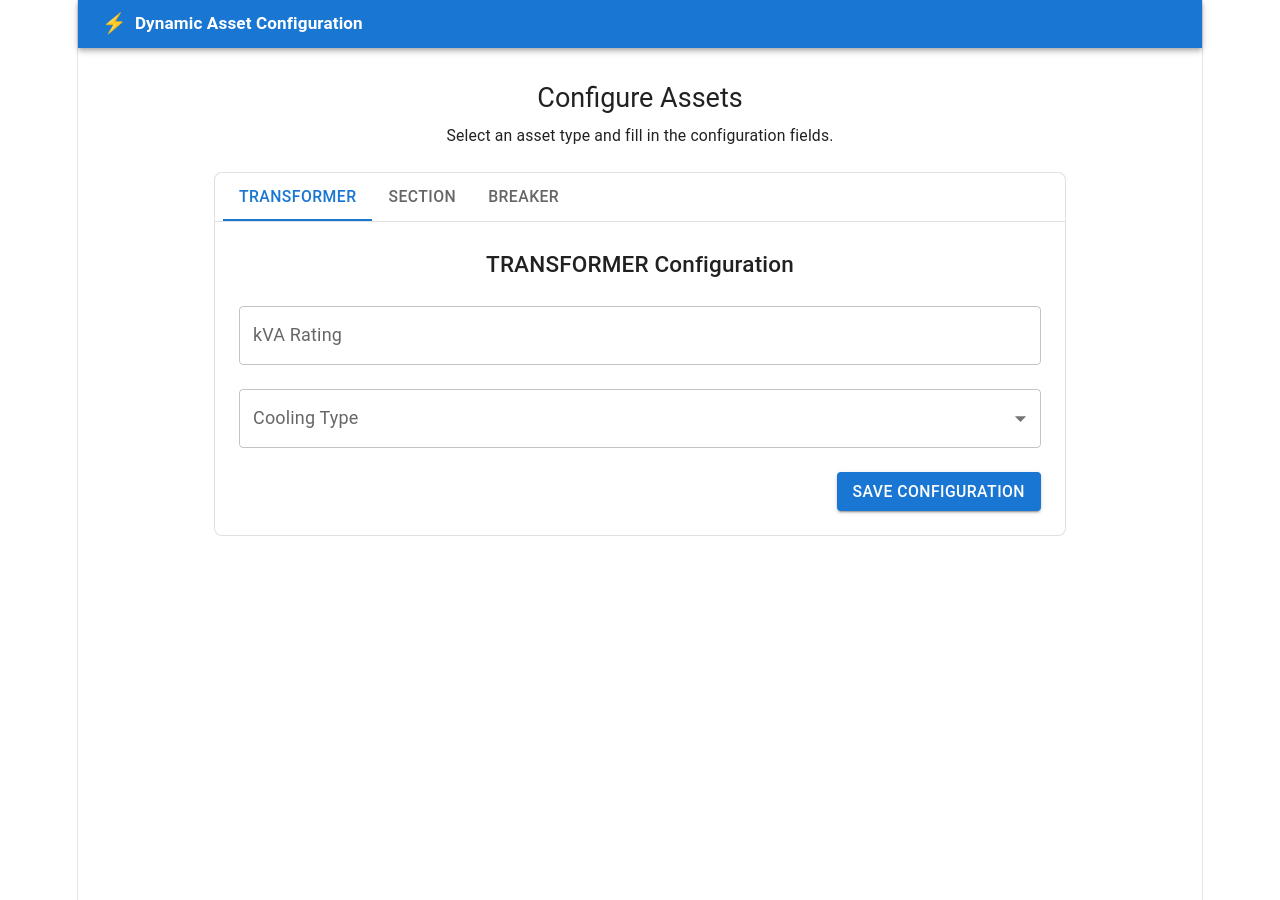
Test: App › displays the payload section after a valid TRANSFORMER submission
Type "250" into the field labelled "kVA Rating" at (640,335), box [239,306,1041,365]
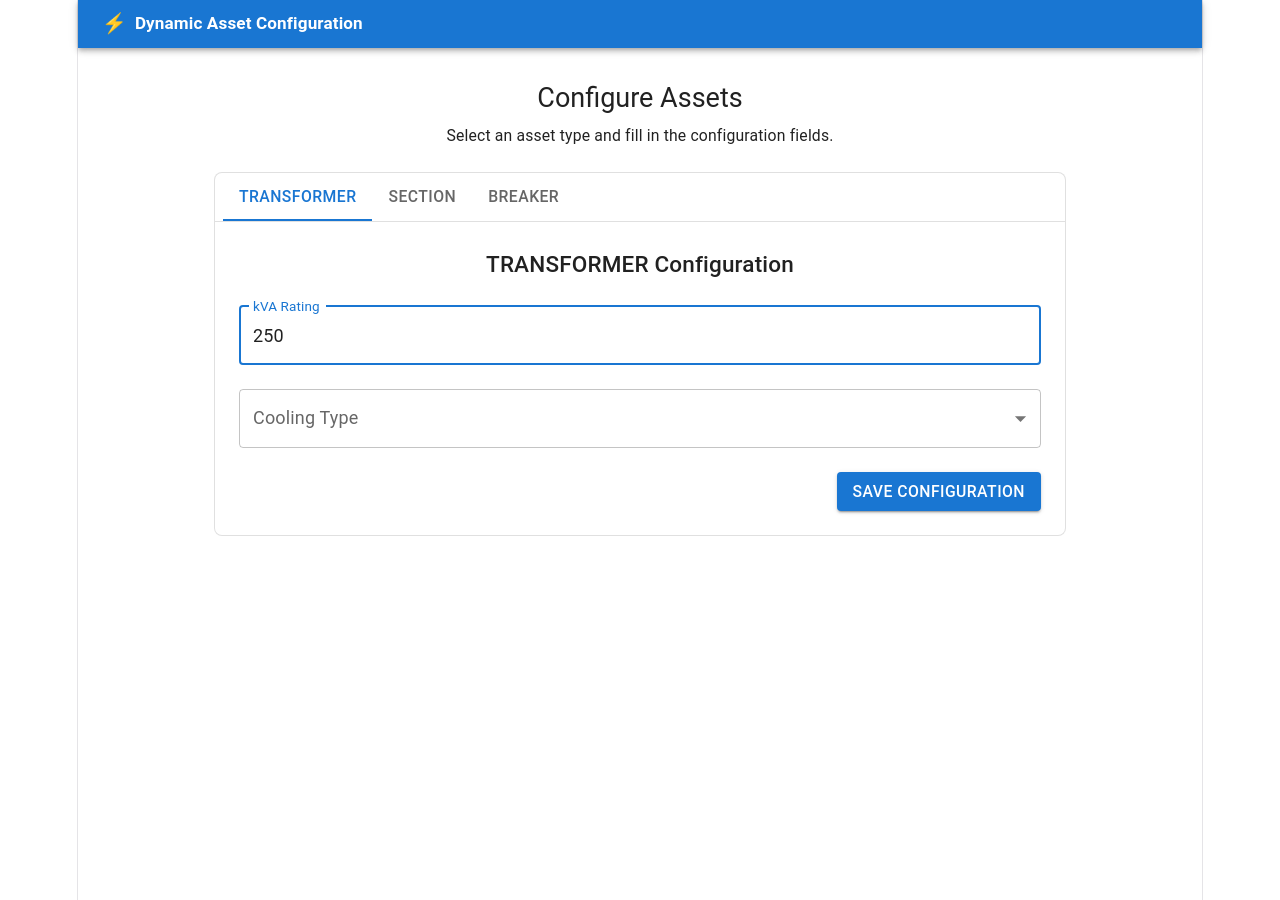
Click the dropdown named "cooling type" at (640,418), box [239,389,1041,448]
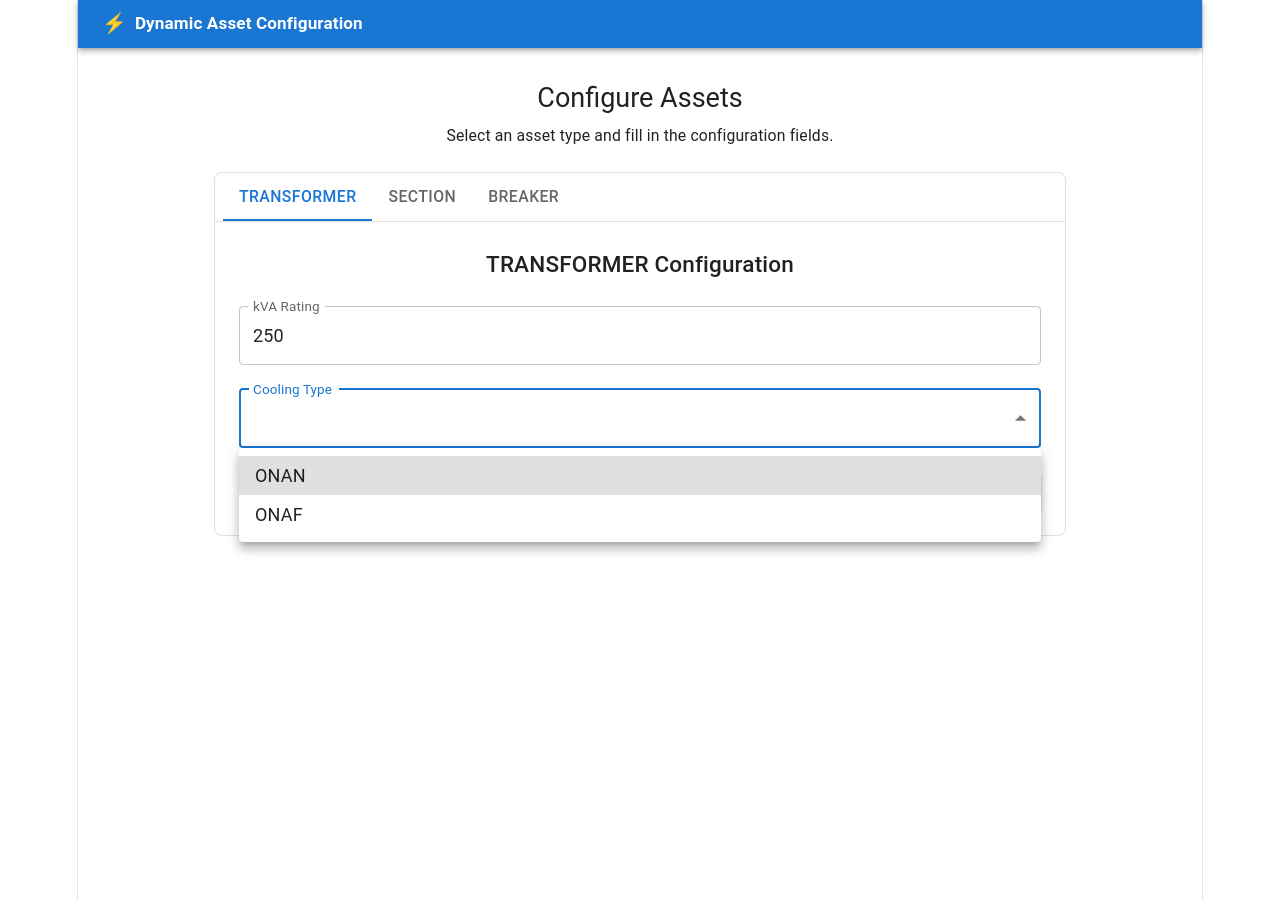
Click the option "ONAF" at (279,514), box [255,504,303,525]
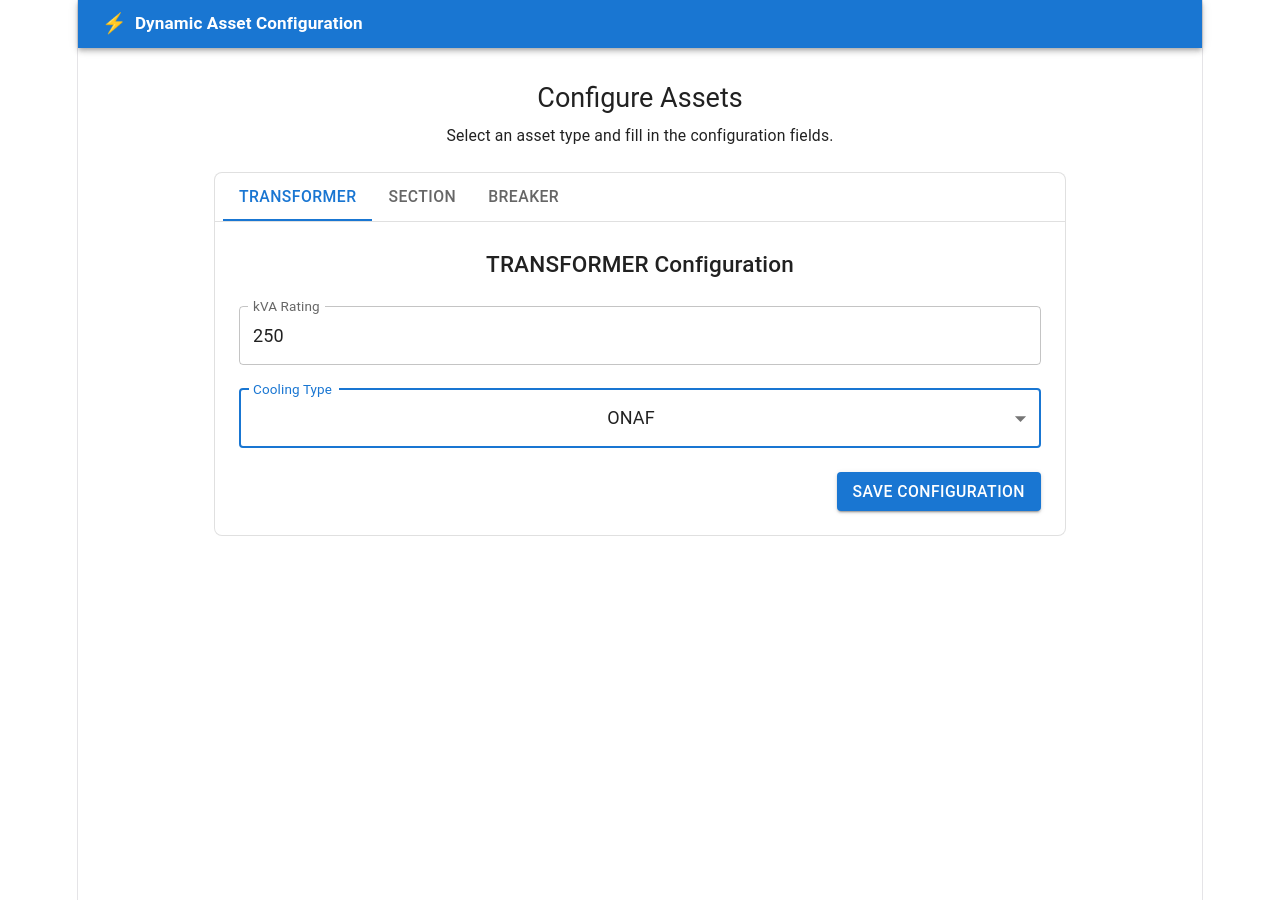
Click the button "Save Configuration" at (939,491), box [836,472,1041,511]
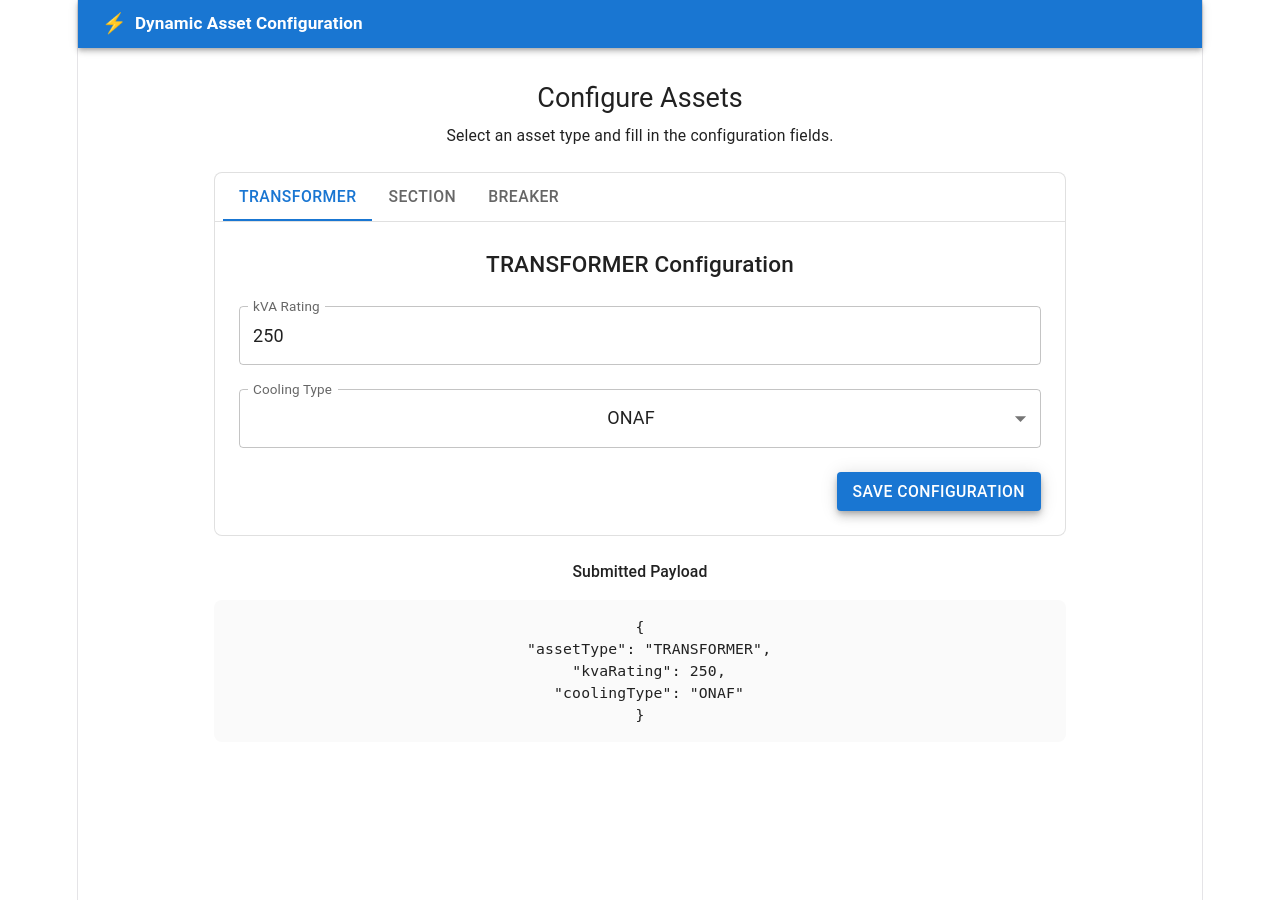
Check: the heading "Submitted Payload" is shown, box [572,562,708,581]
Check: the text "\"assetType\": \"TRANSFORMER\"" is shown, box [509,618,771,723]
Check: the text "\"kvaRating\": 250" is shown, box [509,618,771,723]
